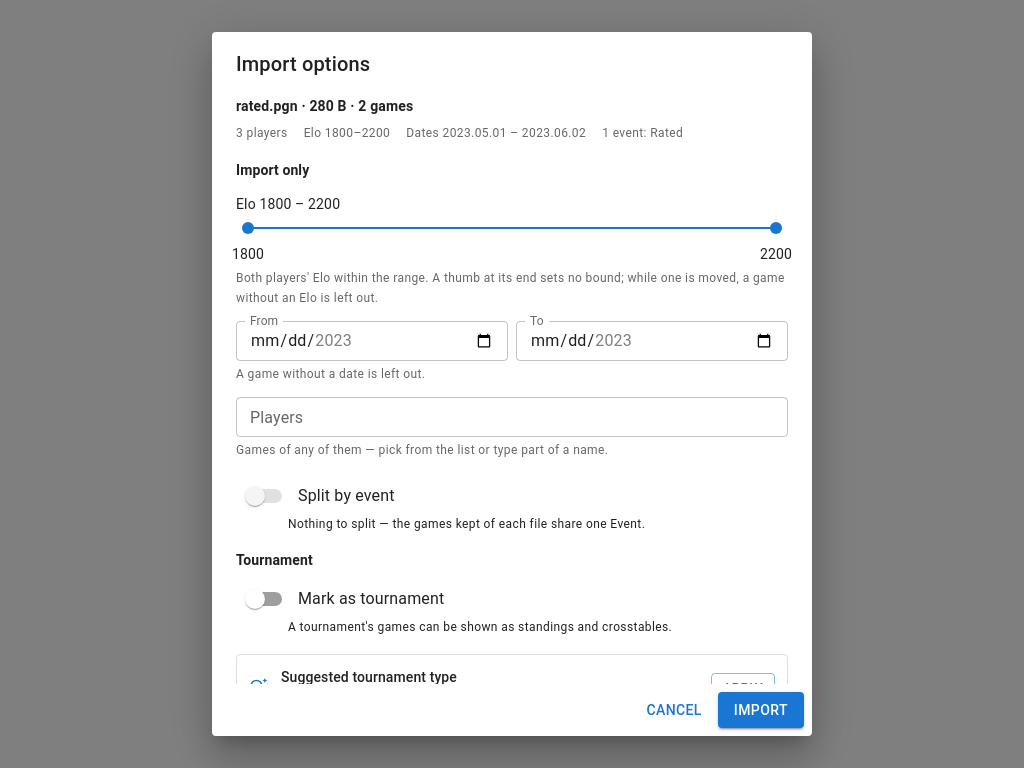
Scenario: CollectionImportDialog — Split by event (CTA-127) › the tournament mark (CTA-142) › turns the switch on with the guessed type
Click the switch with test id "import-mark-tournament-switch" at (345, 599), box x1=245 y1=589 x2=444 y2=609
(page scrolled)
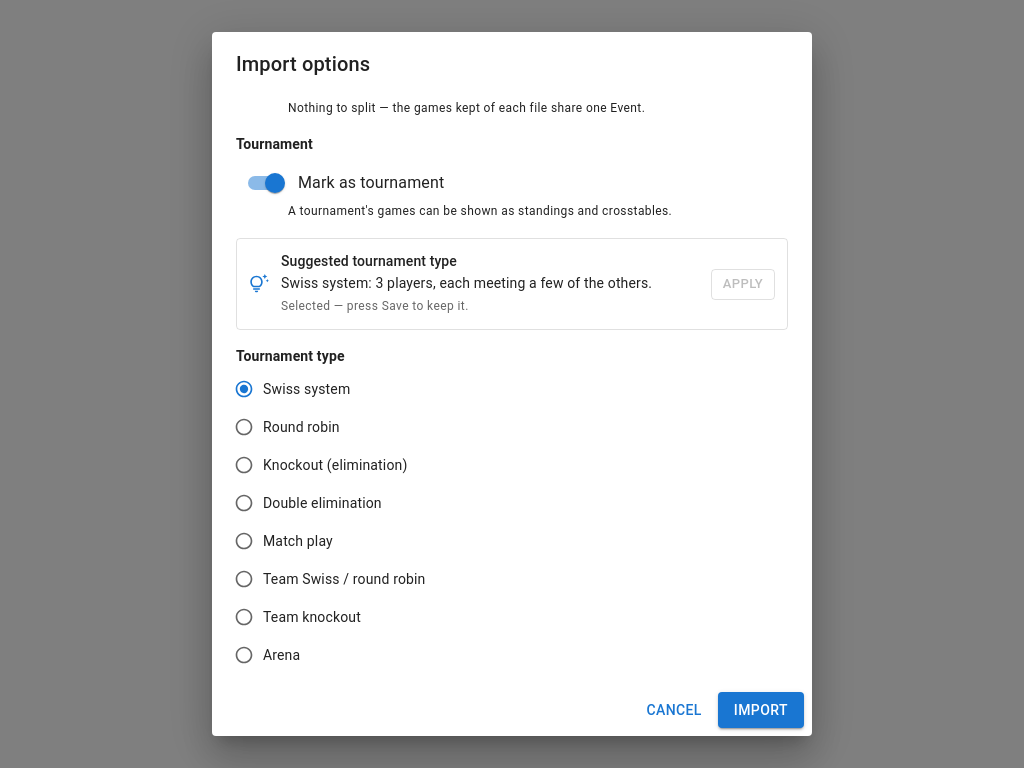
Expected: the radio button with test id "import-mark-type-swiss" is checked, x1=234 y1=379 x2=350 y2=399
